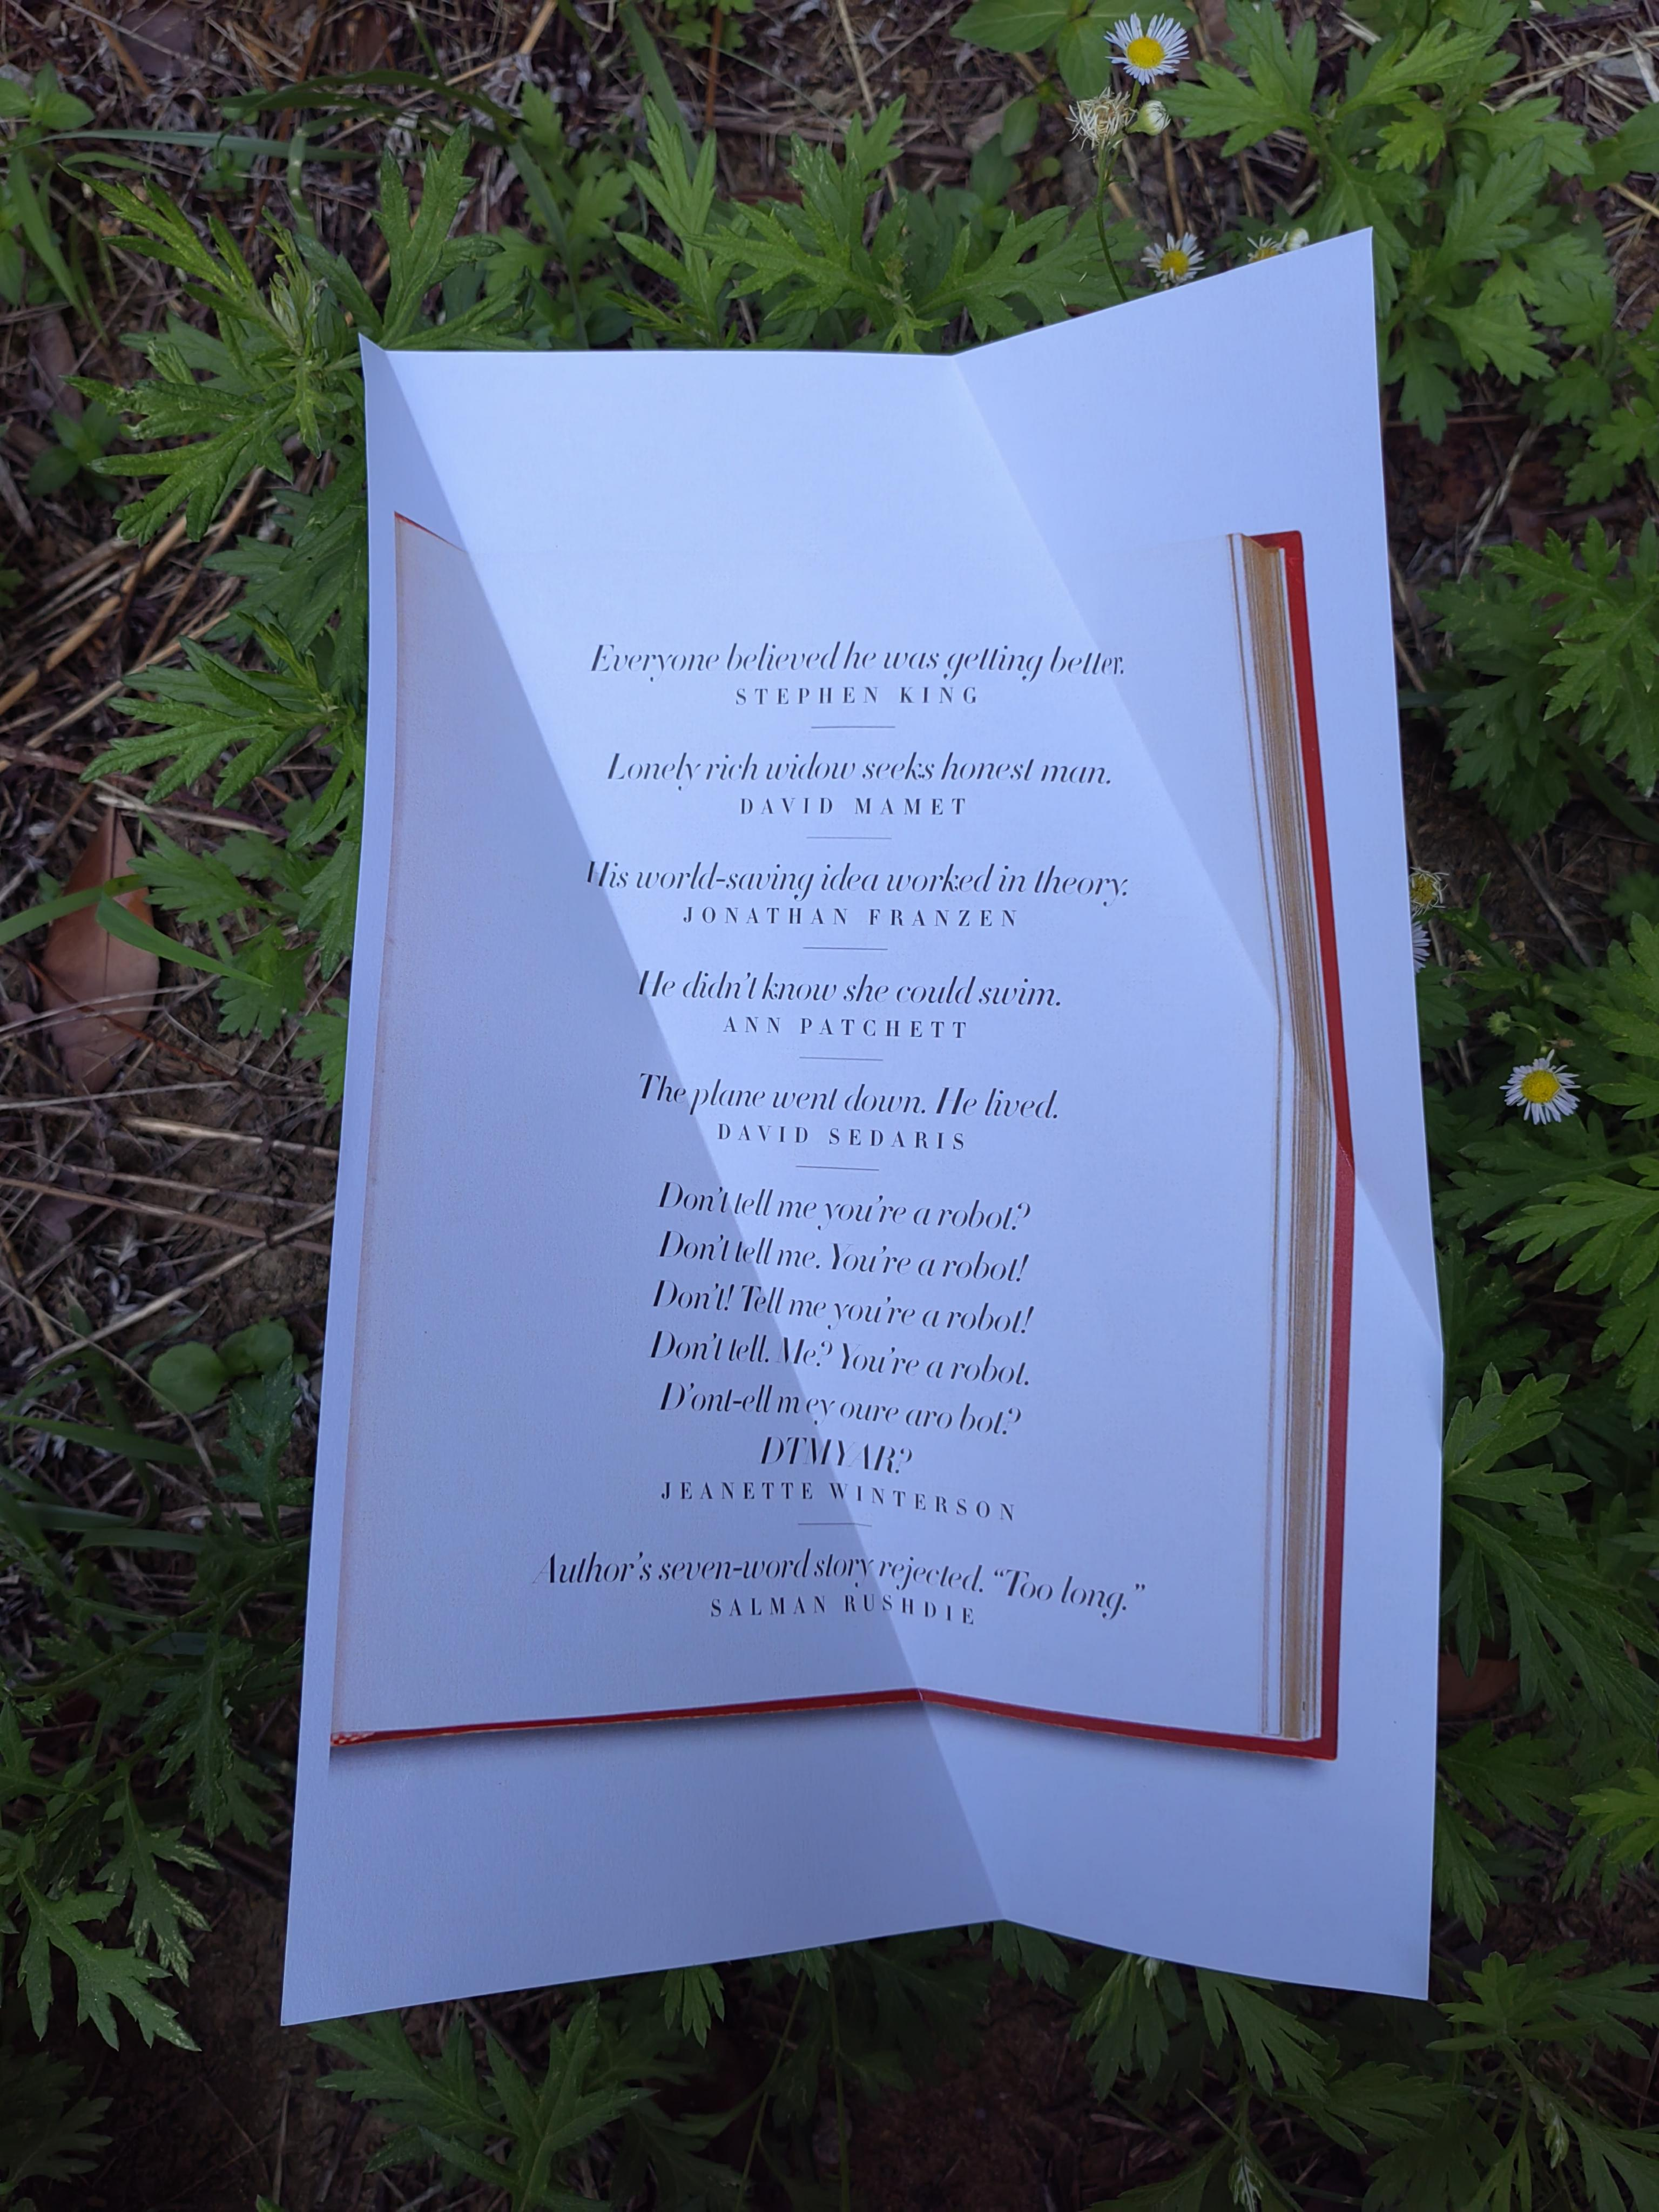paper: (132, 146, 1610, 2212)
